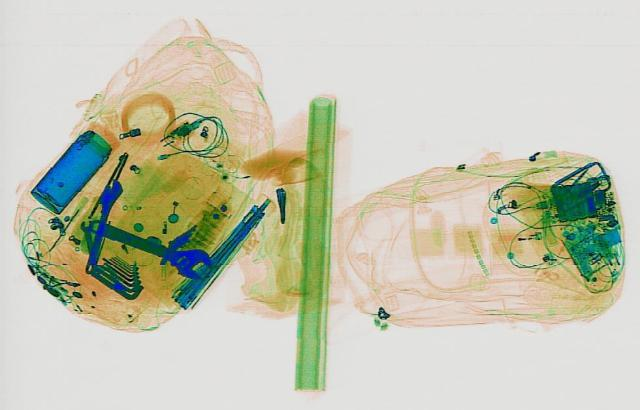Wrench: (74, 206, 226, 281), (76, 178, 124, 272)
